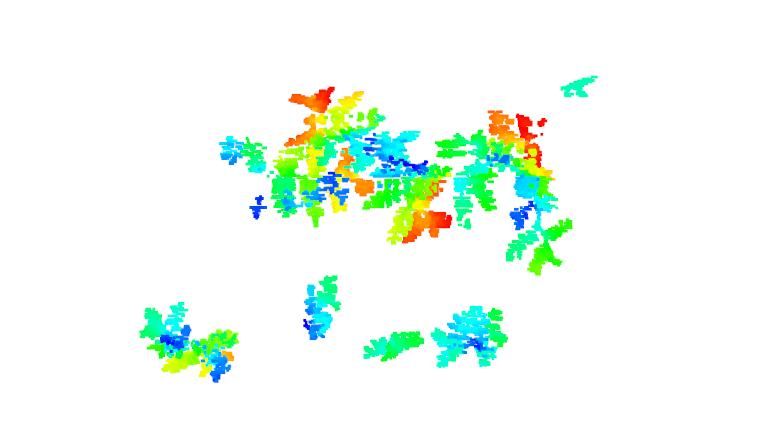chickpea: (439, 100, 567, 277), (216, 130, 359, 226), (268, 87, 410, 165), (369, 132, 458, 242), (131, 302, 242, 384), (429, 305, 510, 368), (294, 272, 342, 342), (361, 329, 428, 369)
